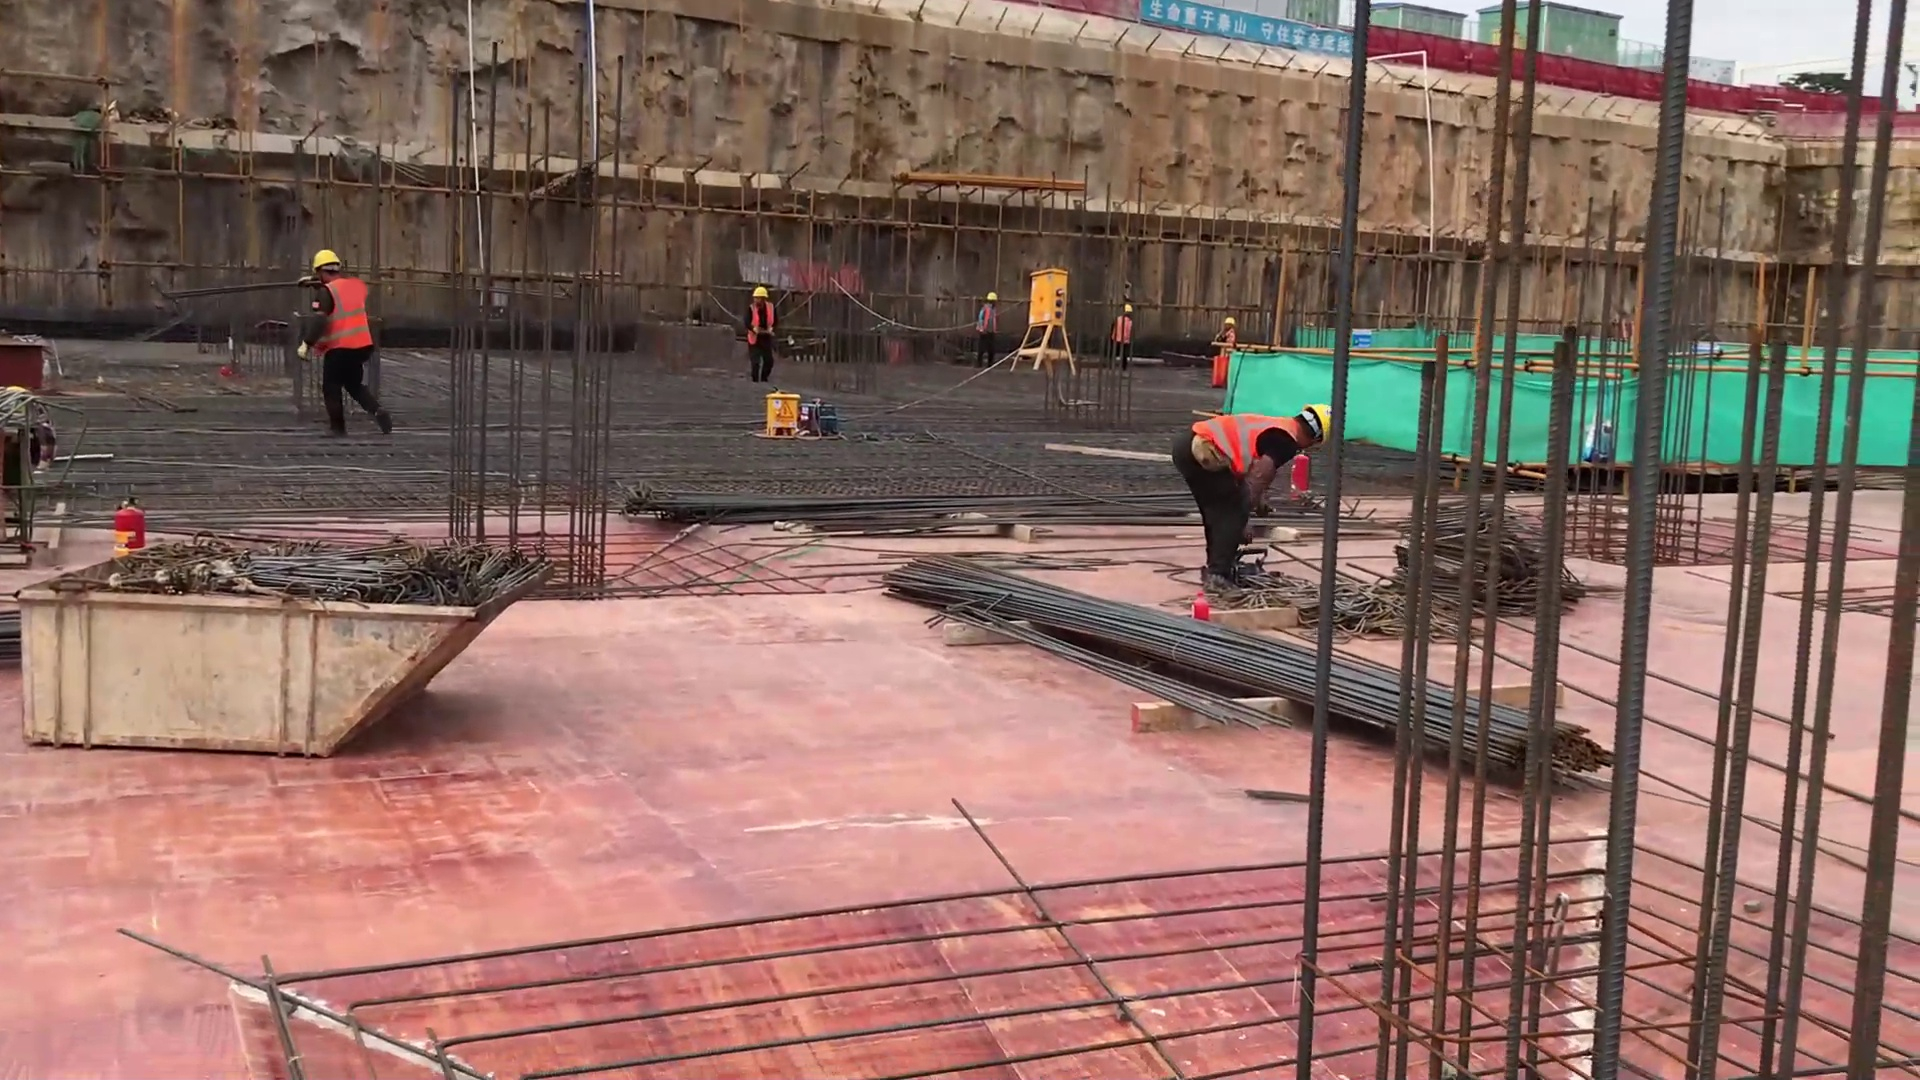helmet: (1312, 401, 1338, 441), (315, 253, 340, 266), (753, 284, 773, 298), (985, 293, 998, 300), (1225, 316, 1235, 326), (1124, 303, 1133, 312)
person: (1173, 408, 1321, 574), (324, 257, 391, 446), (741, 271, 781, 384), (966, 285, 1016, 366), (1211, 311, 1243, 371), (1114, 305, 1143, 363)
vest: (1206, 406, 1303, 468), (321, 273, 386, 361), (745, 301, 776, 341), (981, 305, 998, 335), (1219, 327, 1237, 351), (1119, 312, 1131, 346)
